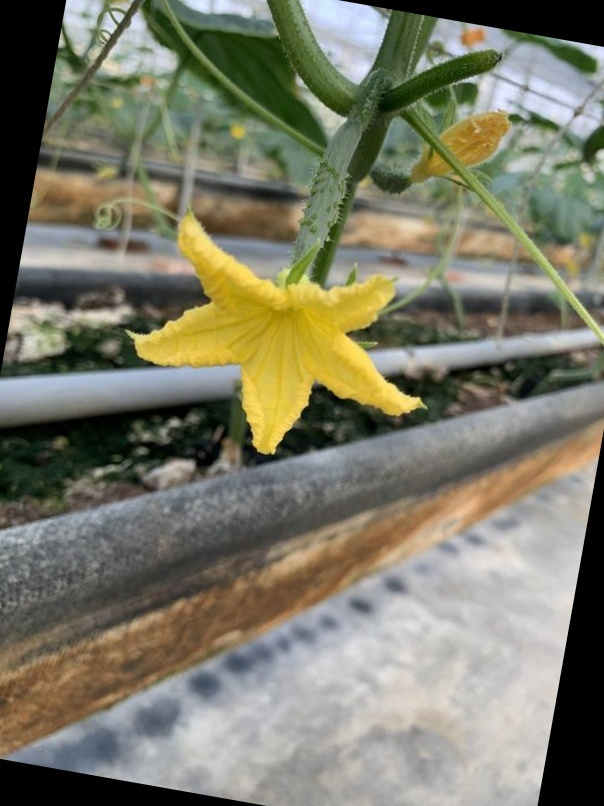flowering: (126, 95, 461, 456)
